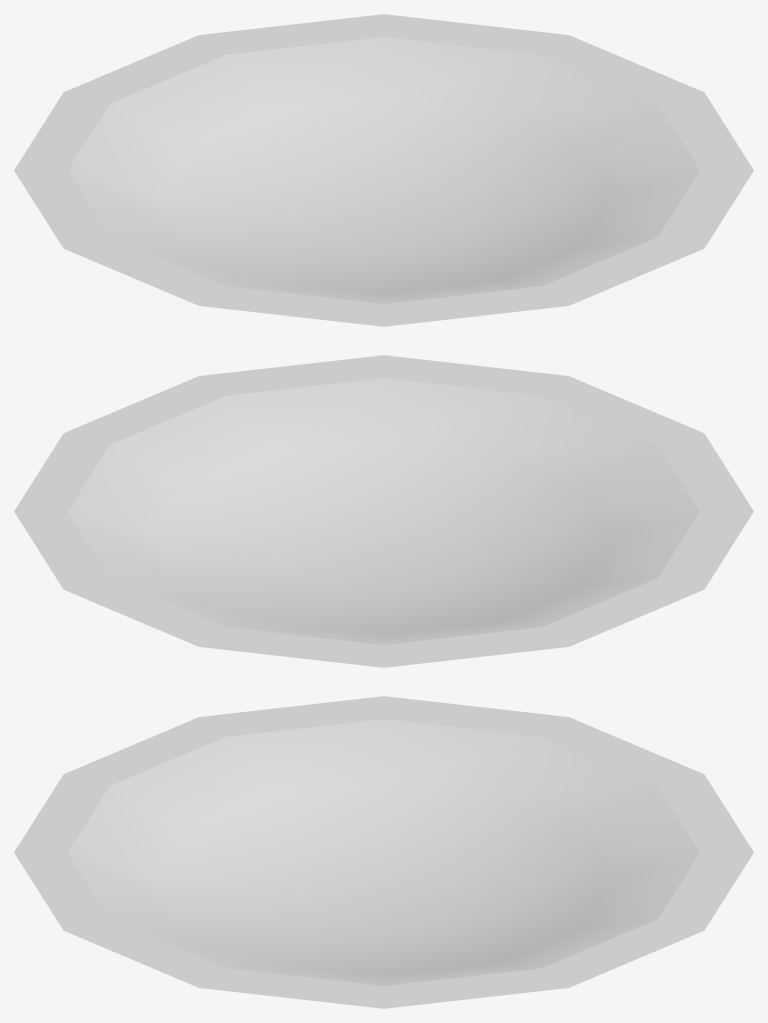
The model's file is plate_2.glb.
3 renders of one model, top to bottom at view 1: azimuth 30°, elevation 25°; view 2: azimuth 150°, elevation 25°; view 3: azimuth 270°, elevation 25°, orthographic.
Visible parts, largest first — view 1: Plate (Small); view 2: Plate (Small); view 3: Plate (Small).
Part boxes in pixels (left/top/right/bottom): Plate (Small): left=14, top=14, right=753, bottom=326; Plate (Small): left=14, top=355, right=753, bottom=667; Plate (Small): left=14, top=696, right=753, bottom=1008.
Bounding box in the file's own units: 0.2561 × 0.0184 × 0.2561.
Materials: 1 (1 with a texture image).
